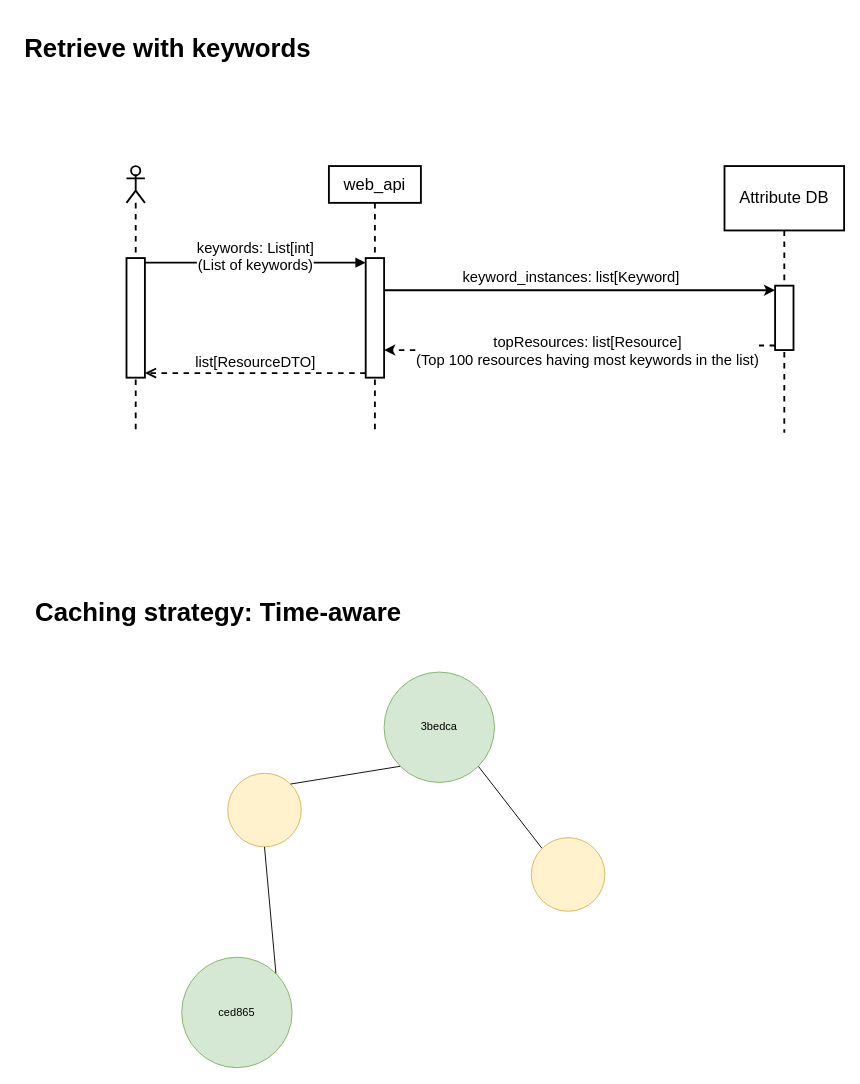
Image size: 860x1084. Some labels were removed from this diagram. The centre of each missing label's shape, as x and y in pixels:
handsome: point (567, 874)
tall: point (264, 809)
